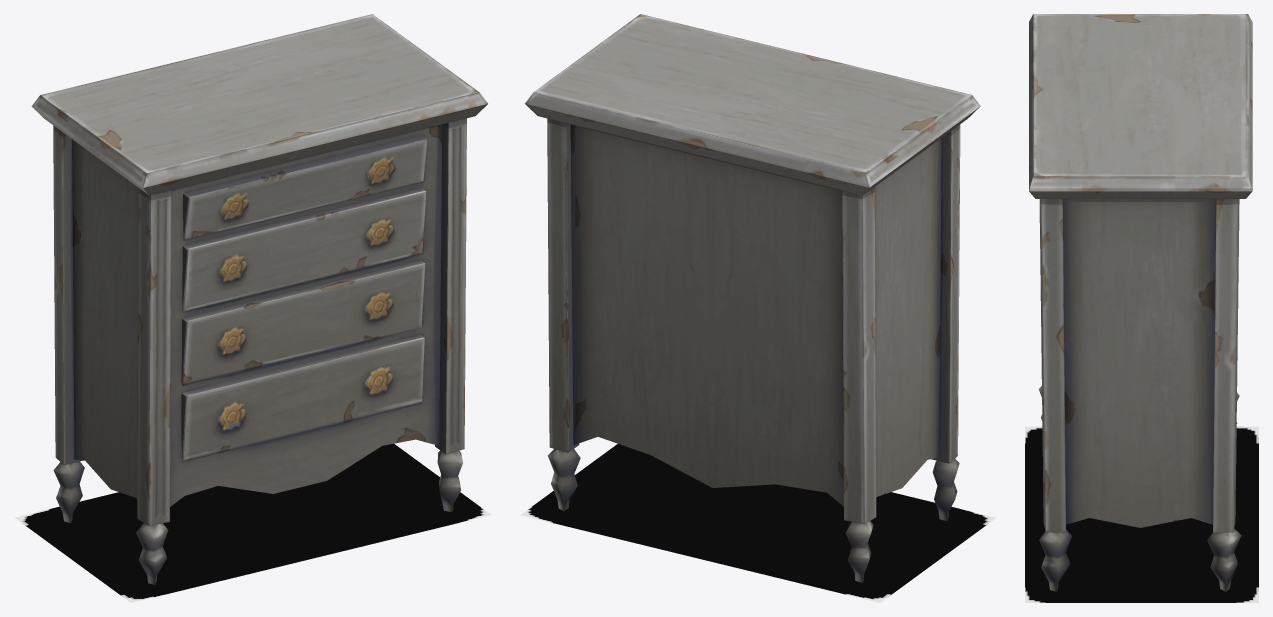
Rendered from jj_ty_guizi01.FBX.
The picture shows the model from 3 angles, left to right: view 1: azimuth 30°, elevation 25°; view 2: azimuth 150°, elevation 25°; view 3: azimuth 270°, elevation 25°; orthographic projection.
Parts seen in each view (by area): view 1: jj_ty_guizi01, shadow; view 2: jj_ty_guizi01, shadow; view 3: jj_ty_guizi01, shadow.
Boxes of the visible parts, bbox=[...] form: jj_ty_guizi01: bbox=[31, 14, 487, 584]; shadow: bbox=[15, 443, 490, 602]; jj_ty_guizi01: bbox=[525, 14, 980, 582]; shadow: bbox=[520, 444, 996, 602]; jj_ty_guizi01: bbox=[1029, 14, 1252, 591]; shadow: bbox=[1025, 426, 1258, 602].
Bounding box in the file's own units: 65.32 × 74.07 × 36.58.
